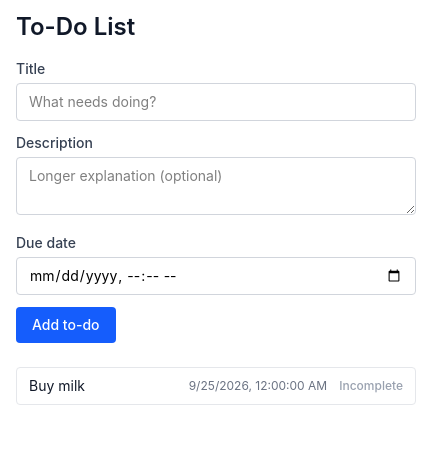
Scenario: TodoListRoute › adds a todo and shows it in the refreshed list after redirect
Check: the link "Buy milk" is shown, box [29, 377, 85, 394]
In the field labelled "Title": (216, 102) [16, 83, 416, 121], type "Walk the dog"
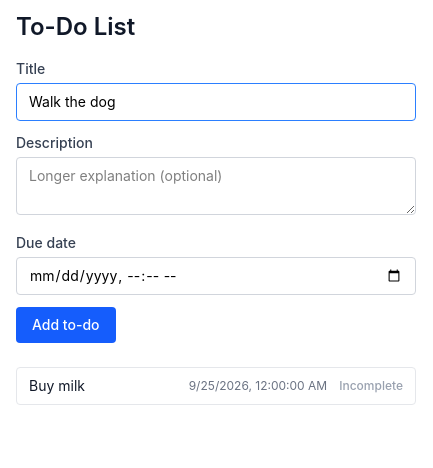
Click the button "Add to-do": (66, 325) [16, 307, 116, 343]
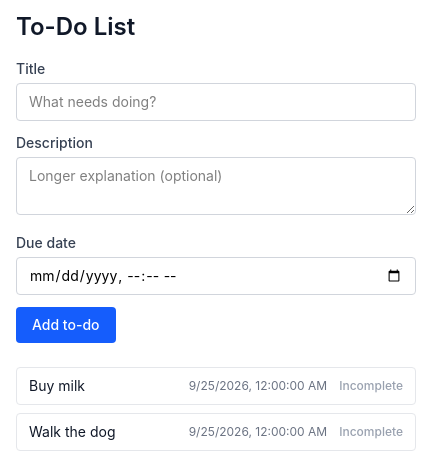
Check: the link "Walk the dog" is shown, box [29, 423, 116, 440]
